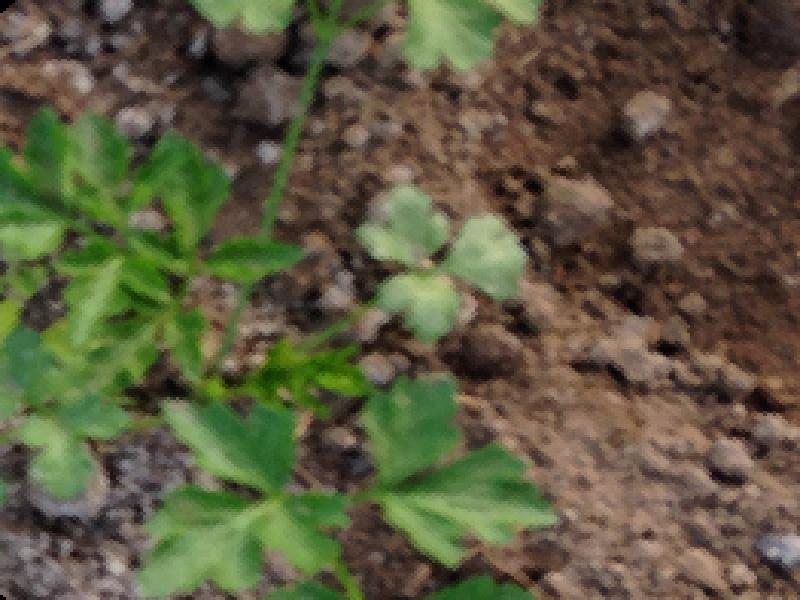radish: (0, 15, 747, 600)
